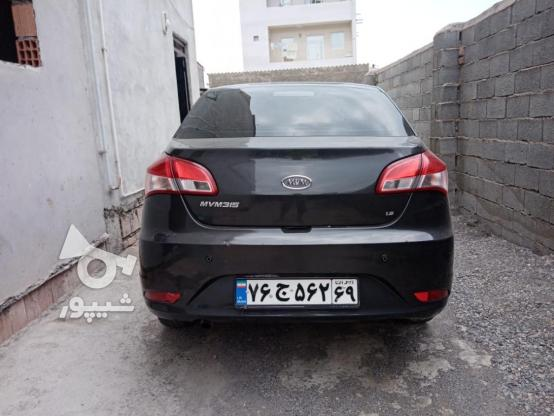car: (234, 276, 361, 304)
